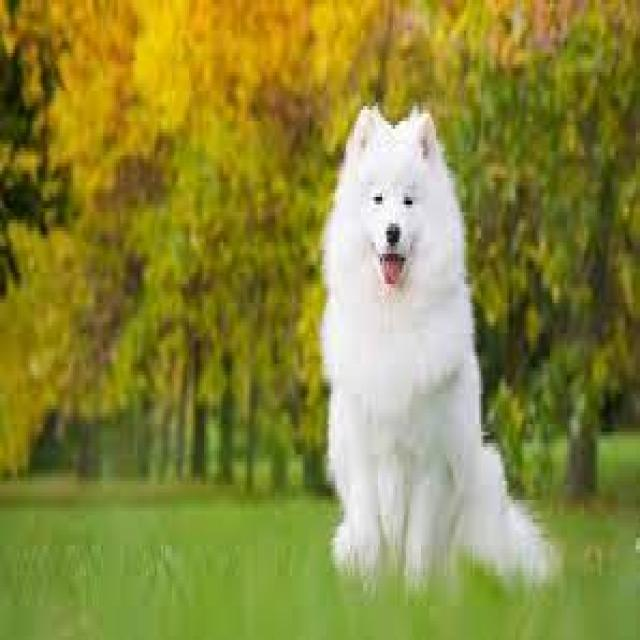dogs: (315, 99, 562, 583)
